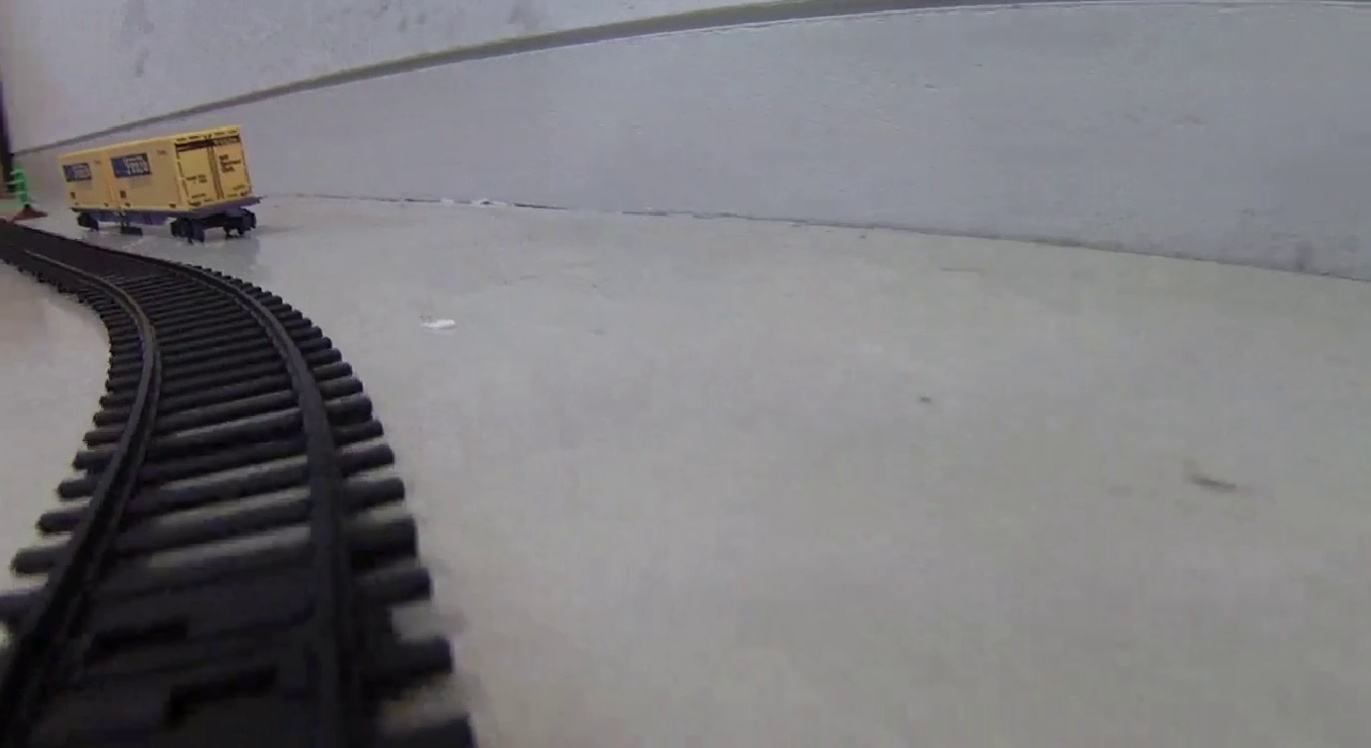tree: (6, 161, 47, 223)
